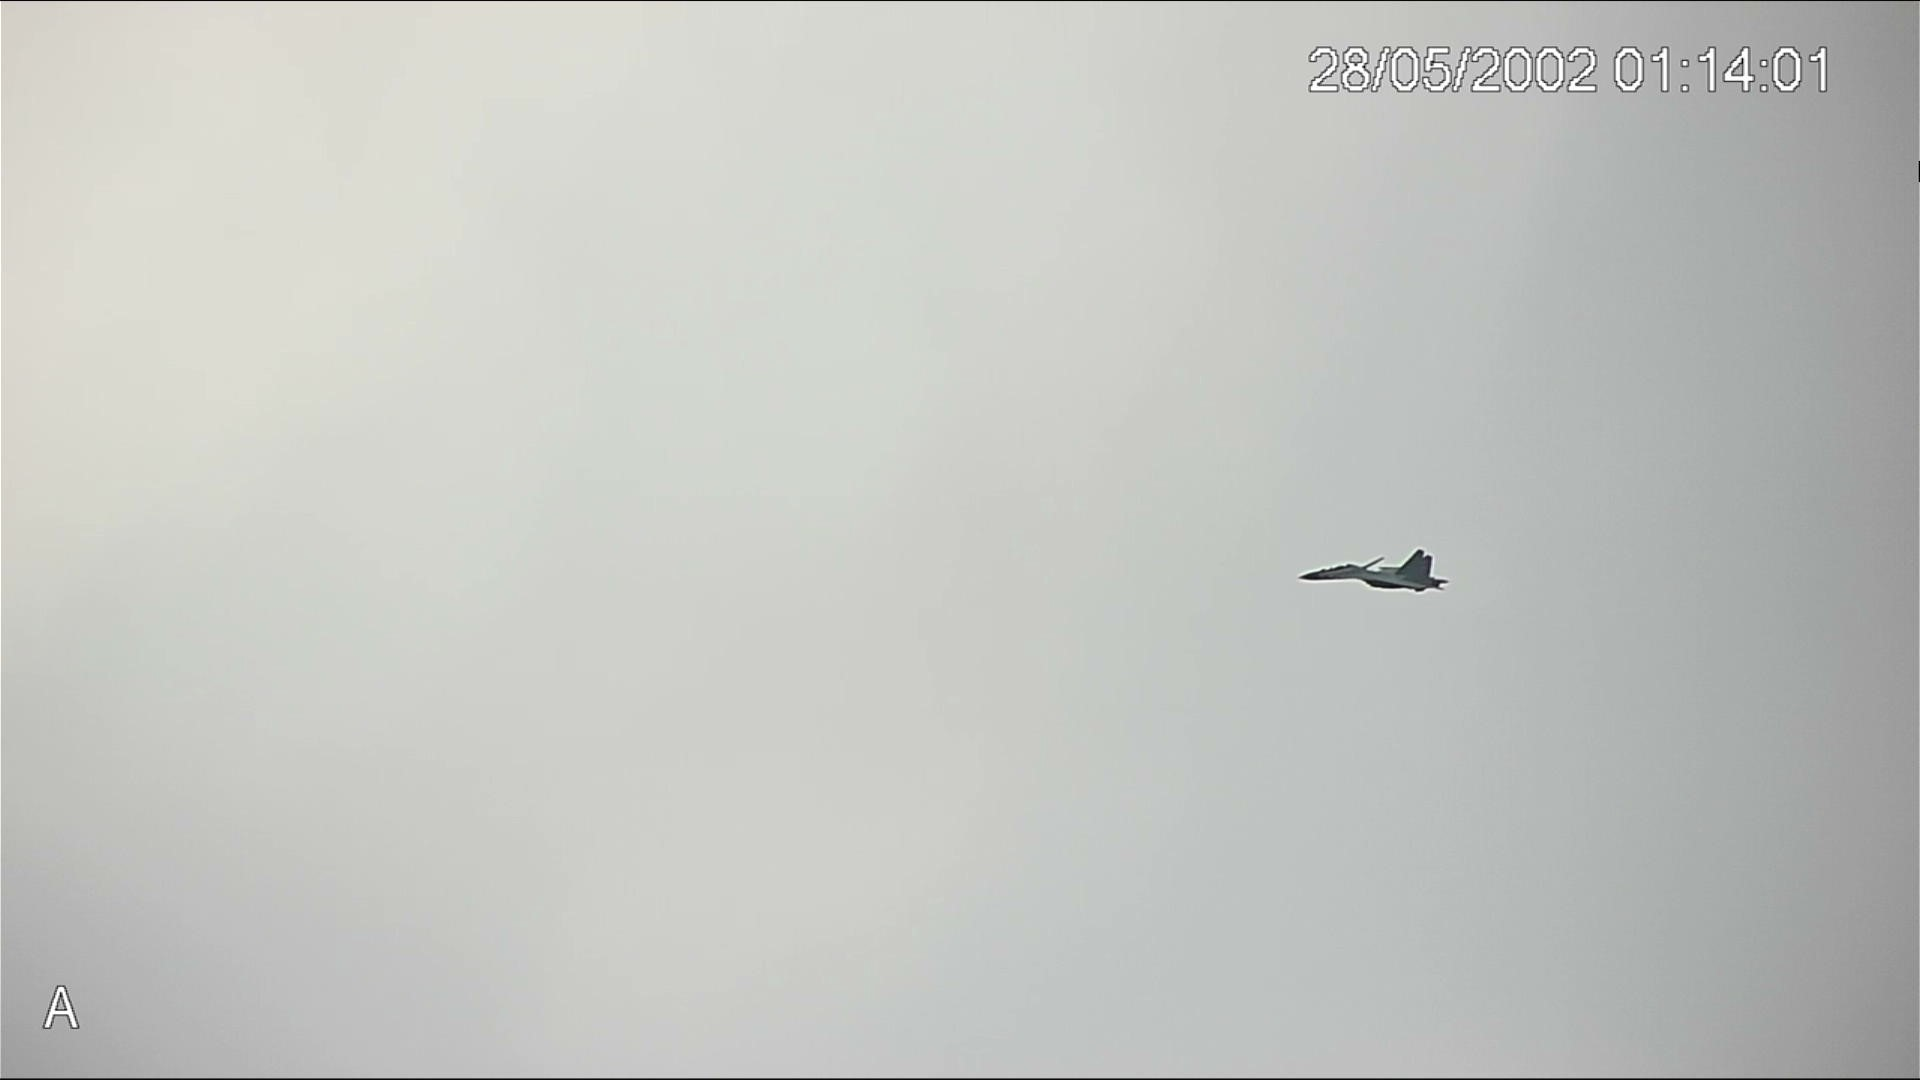SU_30: (1292, 549, 1455, 607)
